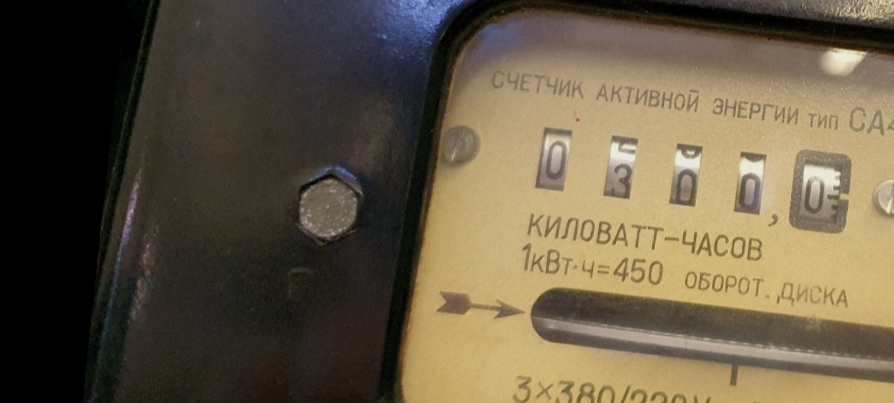0: (540, 135, 568, 184), (733, 169, 762, 215), (797, 172, 826, 217), (669, 165, 697, 208)
3: (605, 160, 632, 201)
screen: (509, 102, 873, 253)
